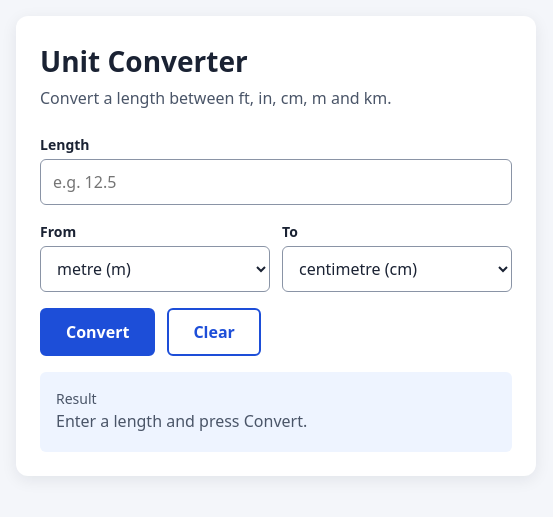
Test: S3: neat result formatting › S3: input 1, in to km shows 0.000025 km
In the field labelled "Length": (276, 182) 40,159 -> 512,205, type "1"
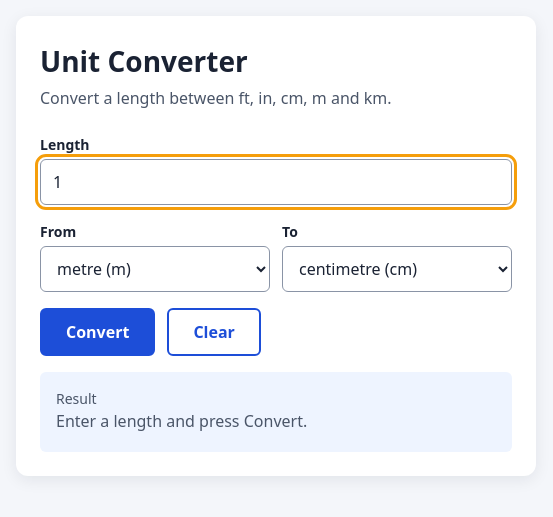
Select "inch (in)" in the dropdown labelled "From": (155, 269) 40,246 -> 270,292
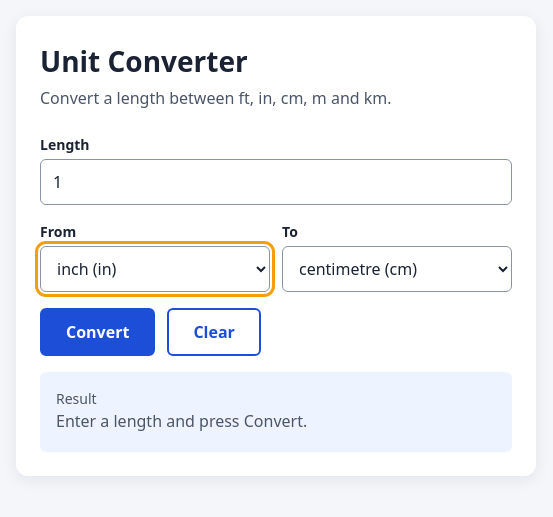
Select "kilometre (km)" in the dropdown labelled "To": (397, 269) 282,246 -> 512,292
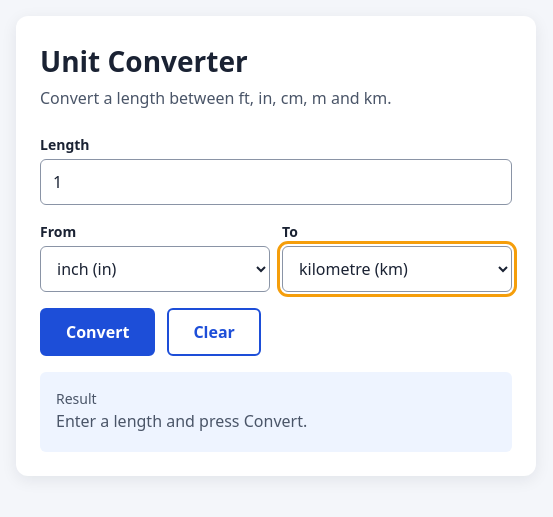
Click the button "Convert": (98, 332) 40,308 -> 155,356
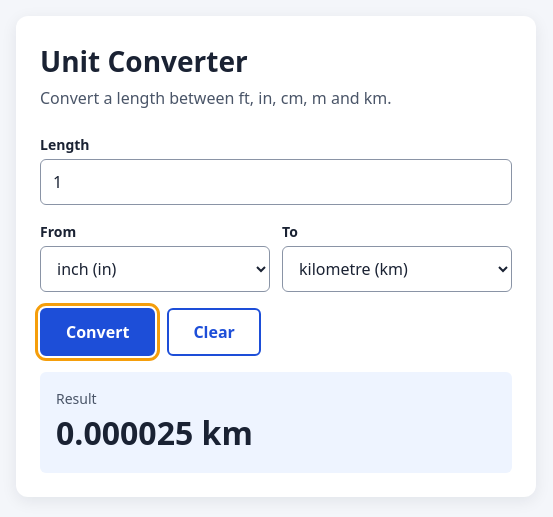
Expected: the element with test id "result-value" does not show "e"
Now the text with test id "result-value" reads "0.000025 km", box 56,411 -> 253,454
